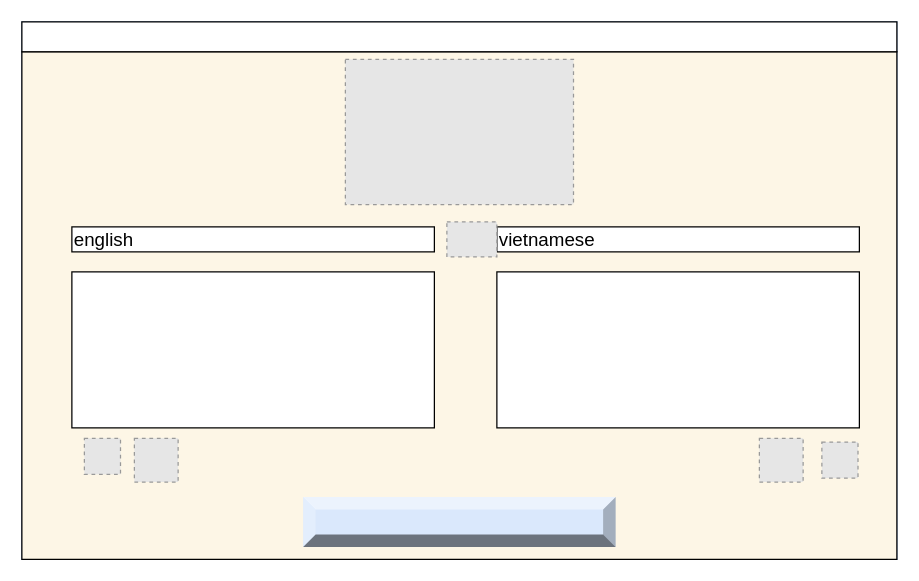
Image size: 919x581. Some labels were removed from this diagram. Grey dashed boxes stand in for pictures. The shapes that lost their labels are listed below. From the top down, each one's centre as x and y in pixels, then its label:
At point 459,36: "Ứng dụng dịch ngôn ngữ - Khoi Nguyen".
At point 459,521: "Translate".
